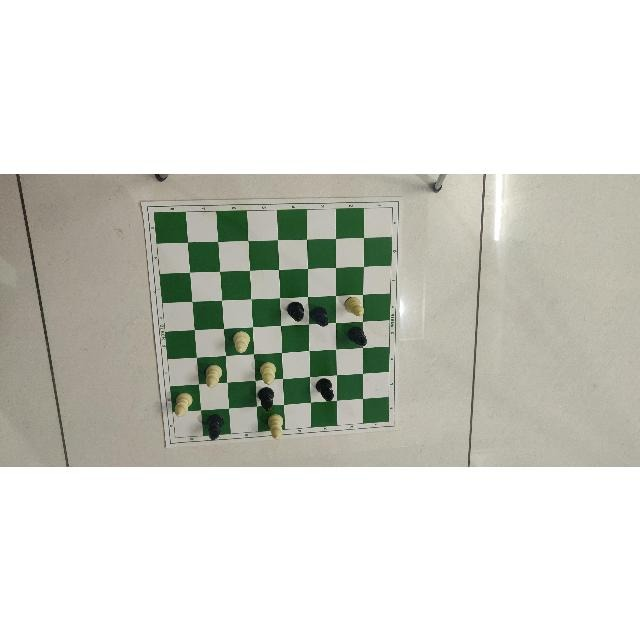black-bishop: (204, 414, 225, 441), (315, 378, 335, 401), (257, 387, 276, 411), (347, 325, 368, 346), (310, 304, 329, 327), (287, 300, 305, 322)
white-bishop: (174, 391, 193, 417), (205, 363, 222, 389), (345, 295, 365, 317), (260, 362, 280, 383), (231, 331, 250, 353), (268, 414, 284, 440)
